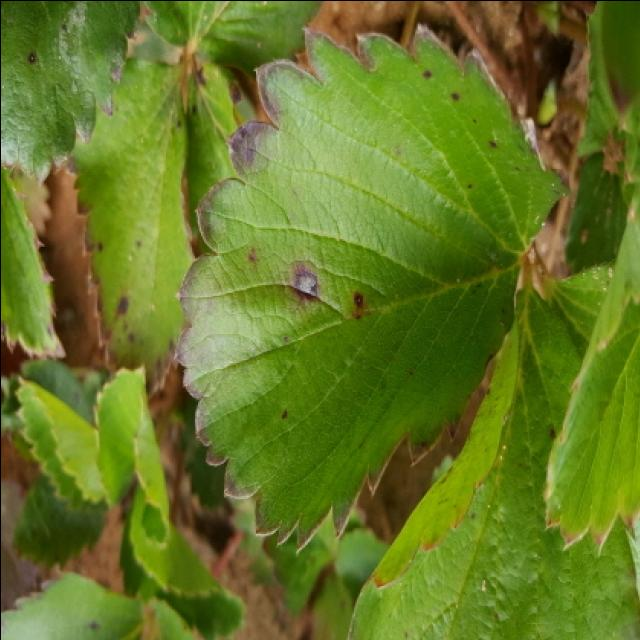Leaf Spot: (172, 23, 570, 554), (345, 281, 638, 640), (62, 55, 201, 399), (0, 2, 140, 185), (180, 61, 269, 253), (0, 170, 66, 361), (0, 570, 145, 640)
